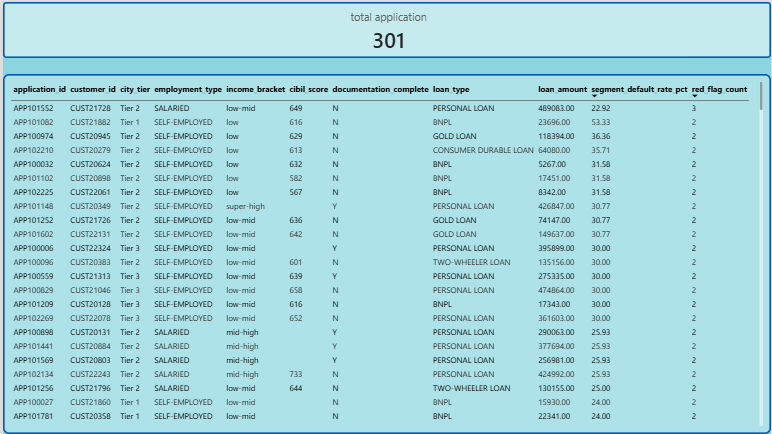

The dashboard page shown, as its layout file describes it:
{"tool":"powerbi","page":{"name":"Manual Review Queue","canvas":[1920,1080],"ordinal":2},"visuals":[{"type":"cardVisual","fields":{"Data":["manual_review_queue.total application"]},"box":[0,0,1920,140],"z":0},{"type":"tableEx","fields":{"Values":["manual_review_queue.application_id","manual_review_queue.customer_id","manual_review_queue.city_tier","manual_review_queue.employment_type","manual_review_queue.income_bracket","manual_review_queue.cibil_score","manual_review_queue.documentation_complete","manual_review_queue.loan_type","manual_review_queue.loan_amount","manual_review_queue.segment_default_rate_pct","manual_review_queue.red_flag_count"]},"box":[0,180,1920,900],"z":1000}]}

Visuals, with their boxes in screenshot pixels (x1, y1, x2, y2), scaled from the page's 1920x1080 canvas onto the 772x434 screenshot:
cardVisual - manual_review_queue.total application: pyautogui.locateOnScreen(0, 0, 771, 56)
tableEx - manual_review_queue.application_id x manual_review_queue.customer_id: pyautogui.locateOnScreen(0, 72, 771, 433)
